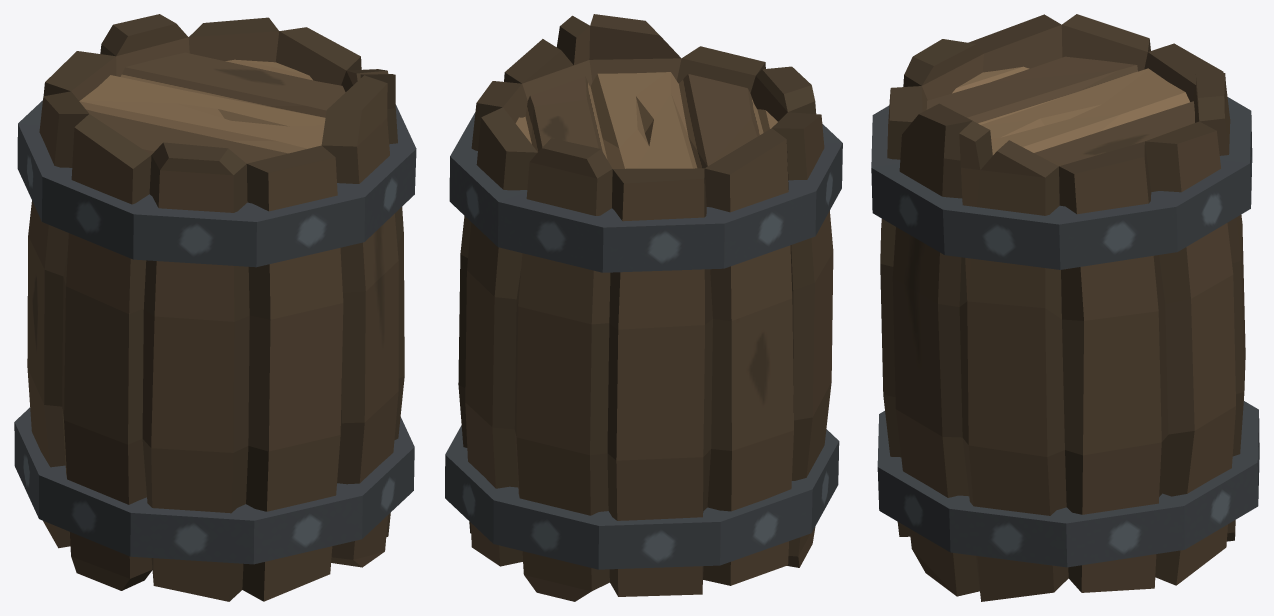
The model's file is crypt_barrel.gltf.
The picture shows the model from 3 angles, left to right: view 1: azimuth 30°, elevation 25°; view 2: azimuth 150°, elevation 25°; view 3: azimuth 270°, elevation 25°; orthographic projection.
Parts seen in each view (by area): view 1: crypt_barrel; view 2: crypt_barrel; view 3: crypt_barrel.
Part boxes in pixels (bbox=[...]): crypt_barrel: bbox=[14, 14, 416, 601]; crypt_barrel: bbox=[445, 14, 842, 601]; crypt_barrel: bbox=[871, 14, 1259, 601].
Bounding box in the file's own units: 0.7339 × 0.9515 × 0.7129.
Materials: 1 (1 with a texture image).
